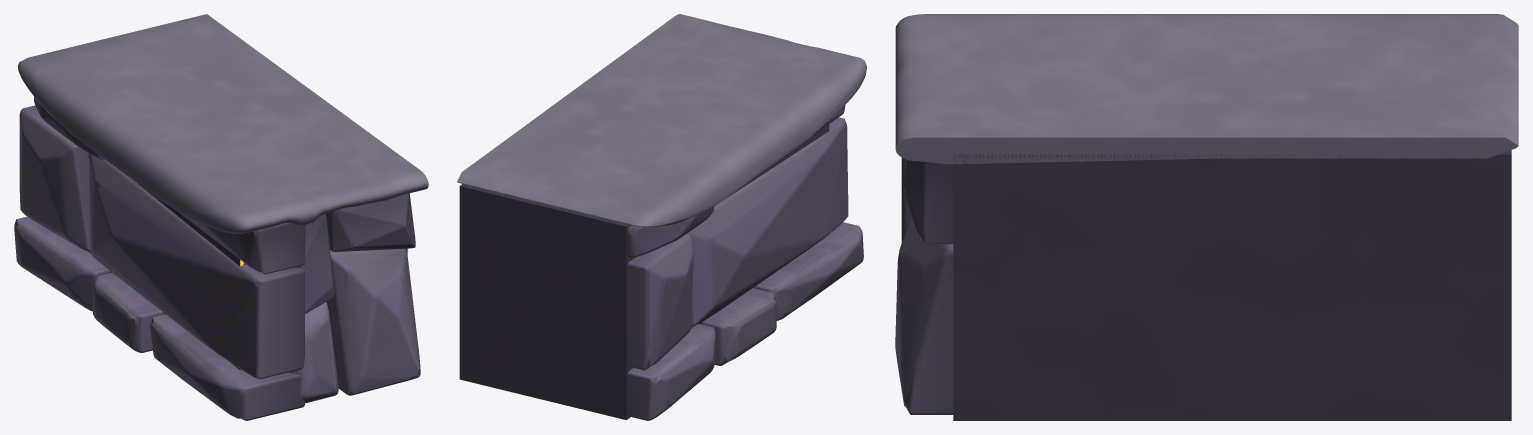
The model's file is EF_T02_BasaltEnd_L.fbx.
3 renders of one model, left to right at view 1: azimuth 30°, elevation 25°; view 2: azimuth 150°, elevation 25°; view 3: azimuth 270°, elevation 25°, orthographic. The views are drawn at different scales.
Parts seen in each view (by area): view 1: Rock, Crust; view 2: Rock, Crust; view 3: Rock, Crust.
Part boxes in pixels (box(x1,y1,x2,y2)): Rock: box(14, 97, 420, 420); Crust: box(18, 14, 428, 233); Rock: box(459, 105, 863, 420); Crust: box(457, 14, 866, 227); Rock: box(895, 150, 1511, 420); Crust: box(895, 14, 1518, 164).
Bounding box in the file's own units: 2 × 2 × 3.99.
